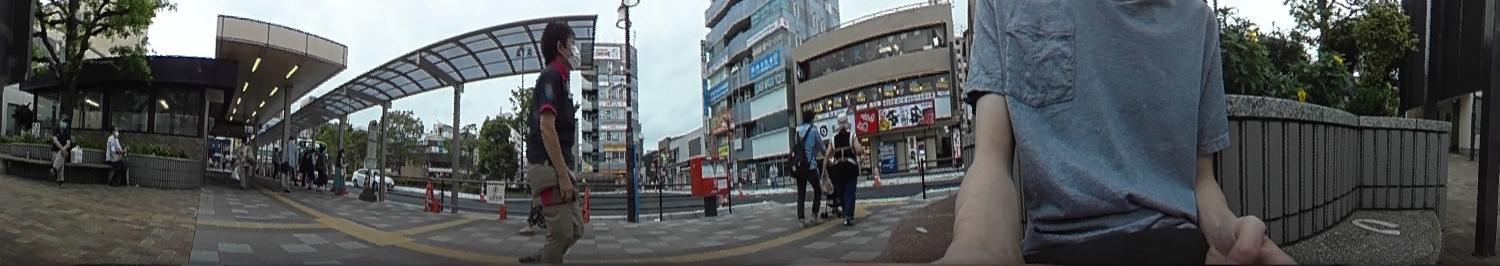difficult_person: (233, 135, 253, 187), (281, 135, 297, 189), (332, 146, 349, 196), (315, 143, 330, 188), (301, 148, 314, 188)
person: (523, 21, 583, 260), (828, 113, 862, 224), (792, 107, 821, 220), (48, 113, 71, 184), (103, 124, 128, 189)
